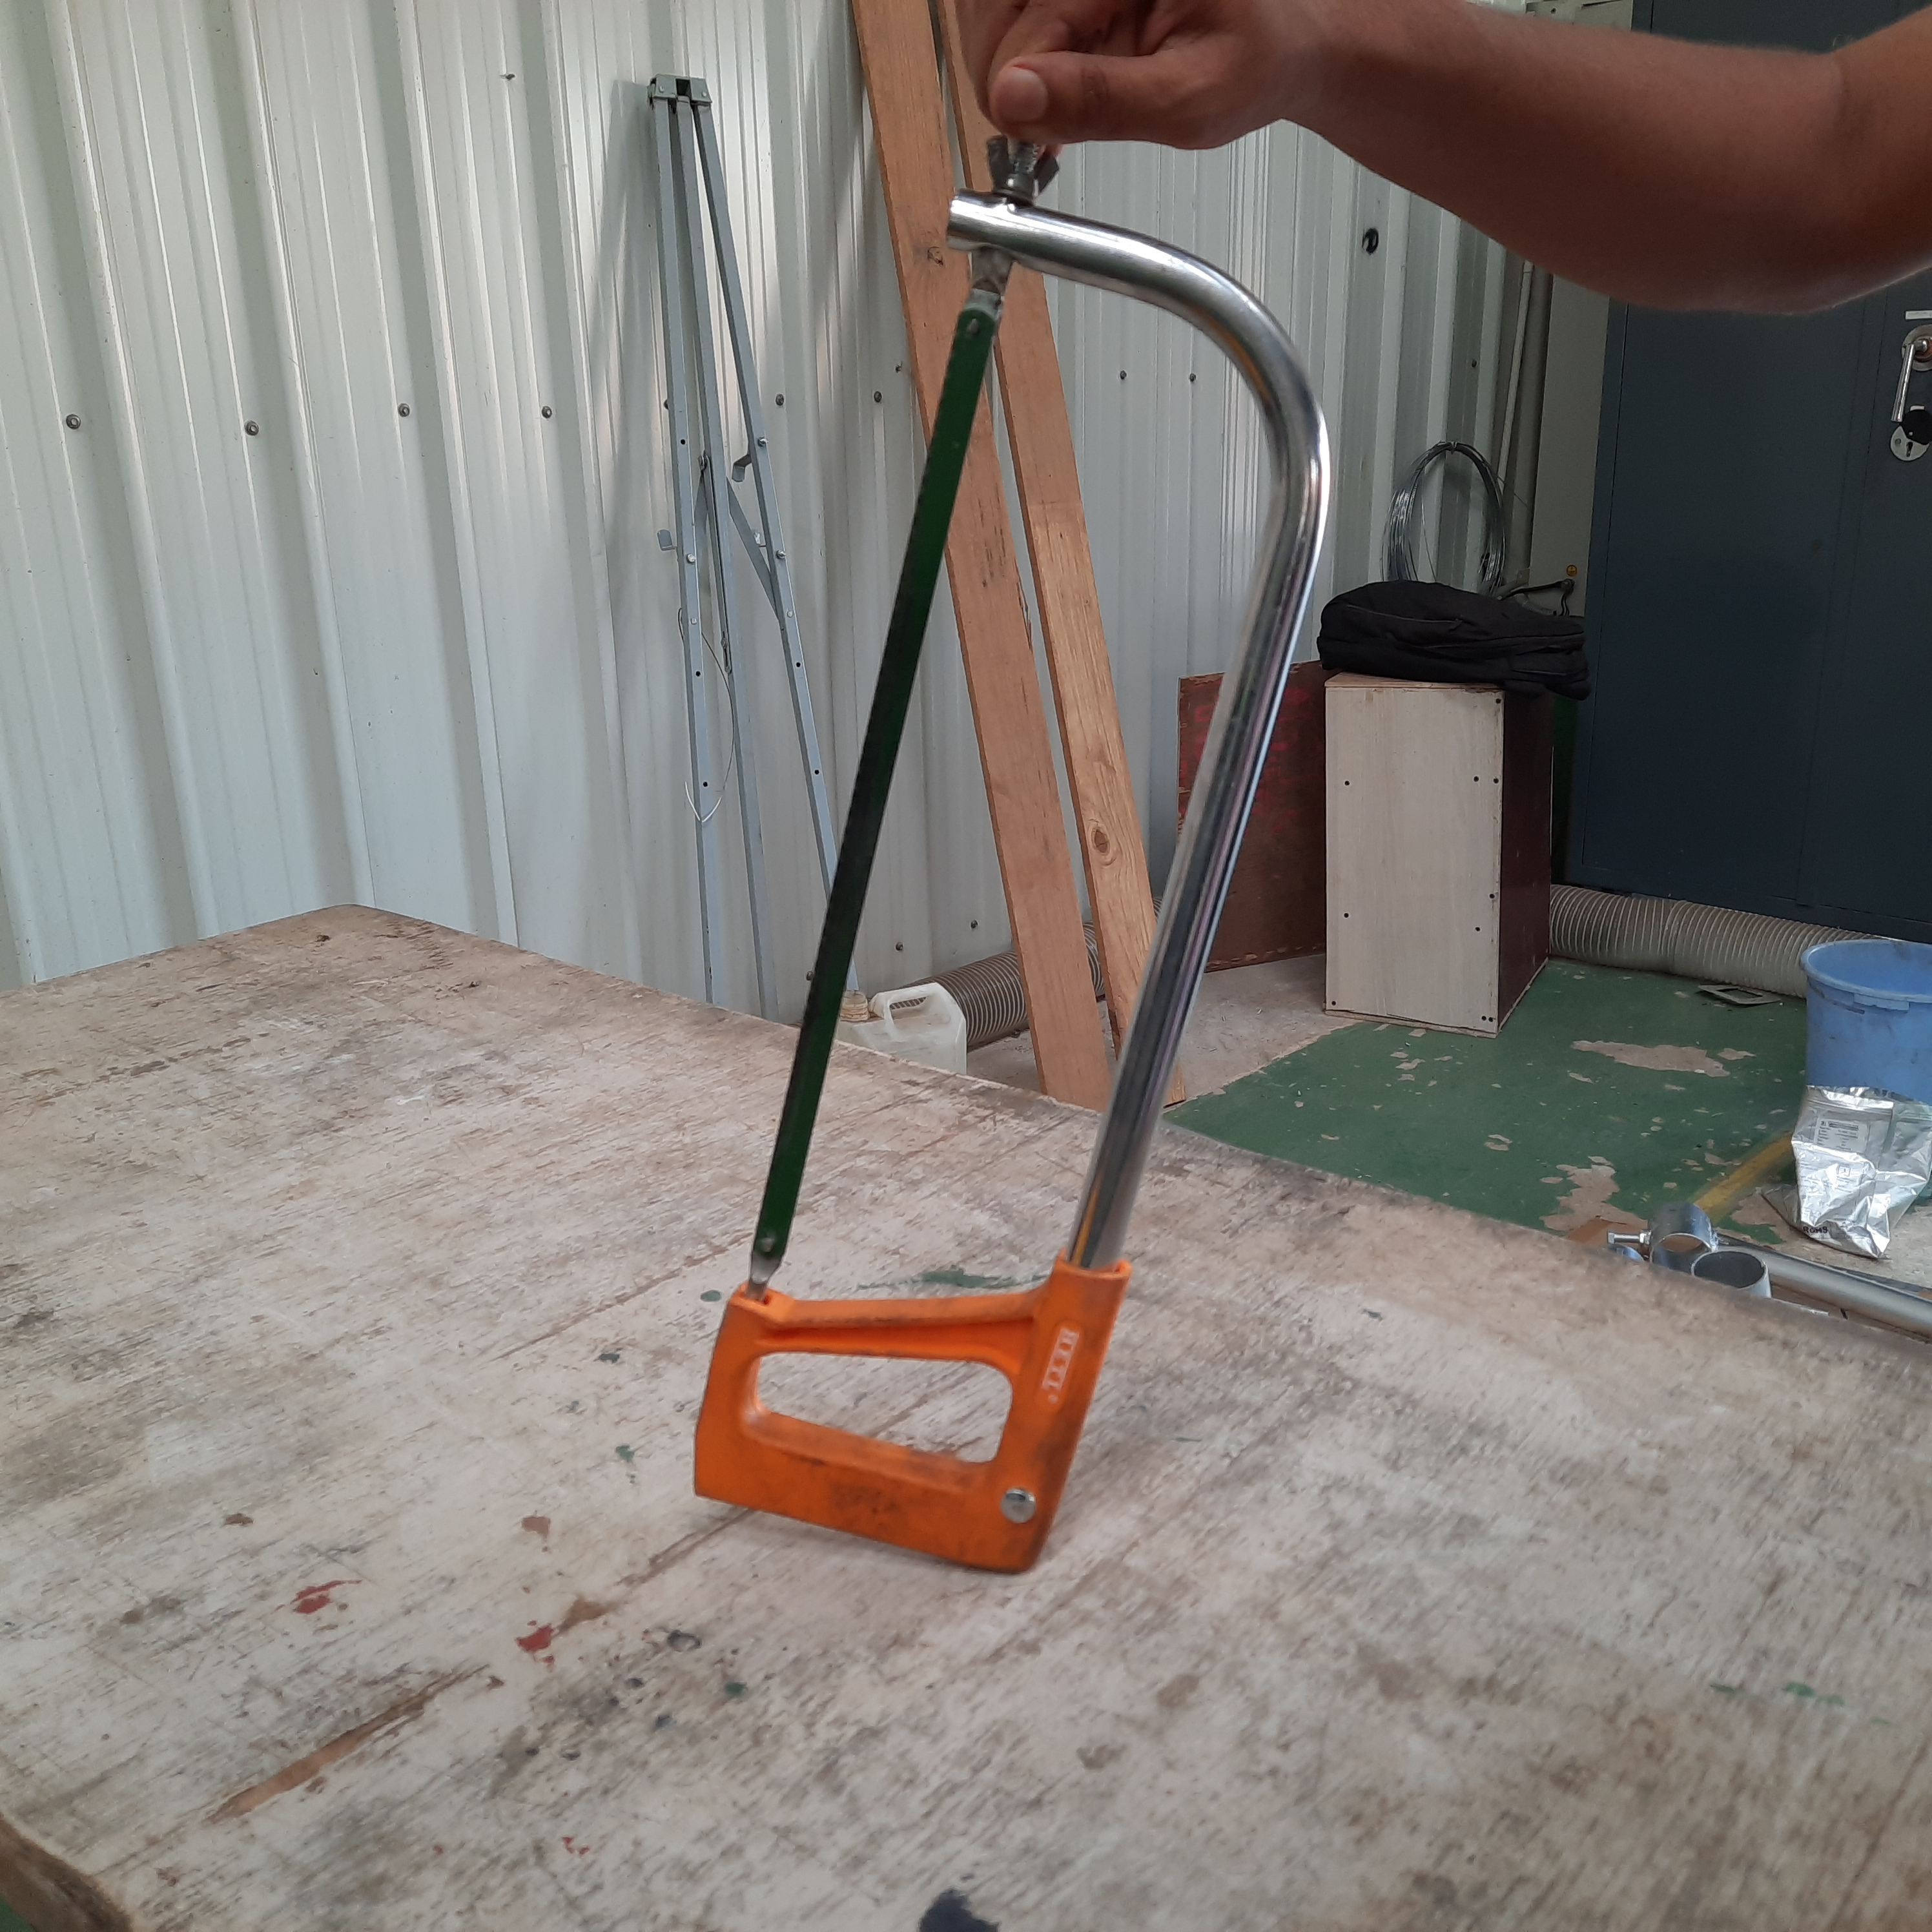Hexaframe: (674, 120, 1332, 1608)
